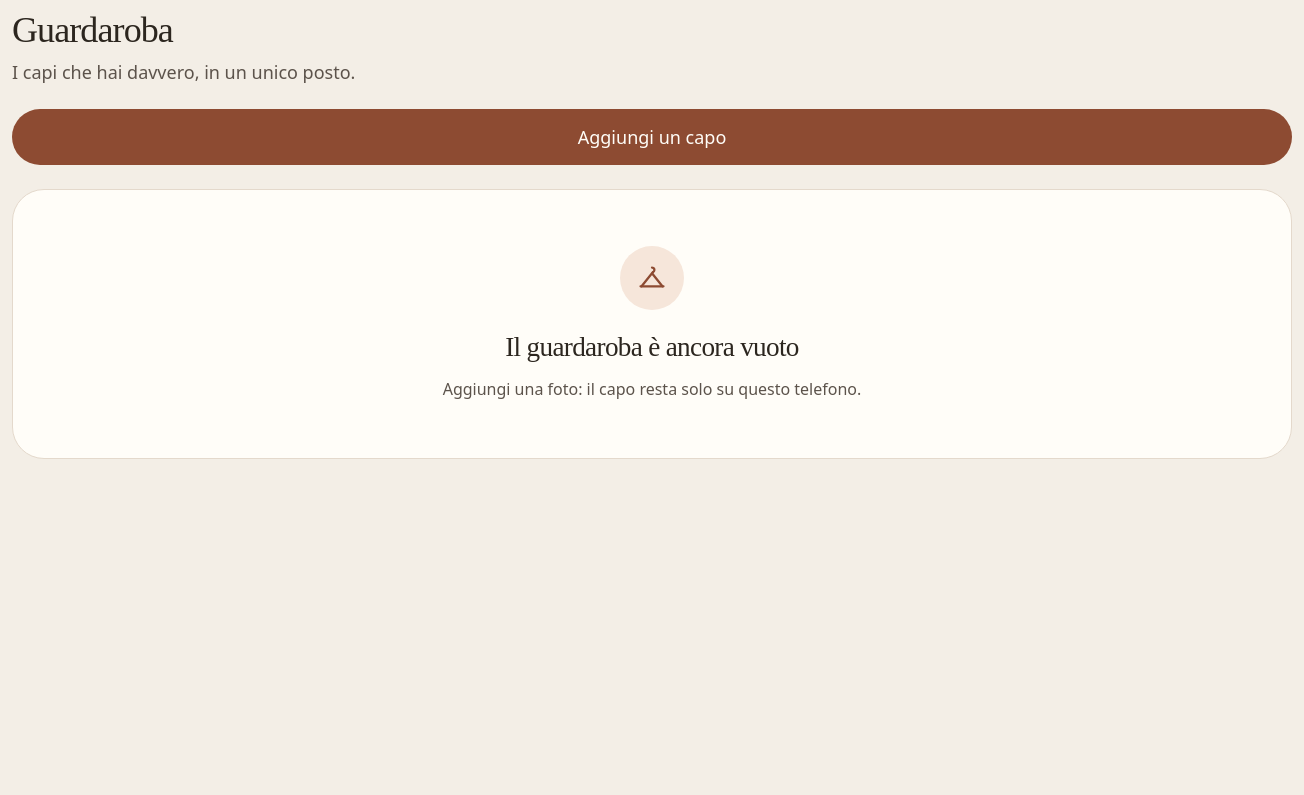
Scenario: guardaroba › salva un capo con la foto e lo mostra nella griglia
The width and height of the screenshot is (1304, 795).
Later steps or results of the test are not shown.
Click the button "Aggiungi un capo".
click(652, 137)  # box [12,109,1292,165]
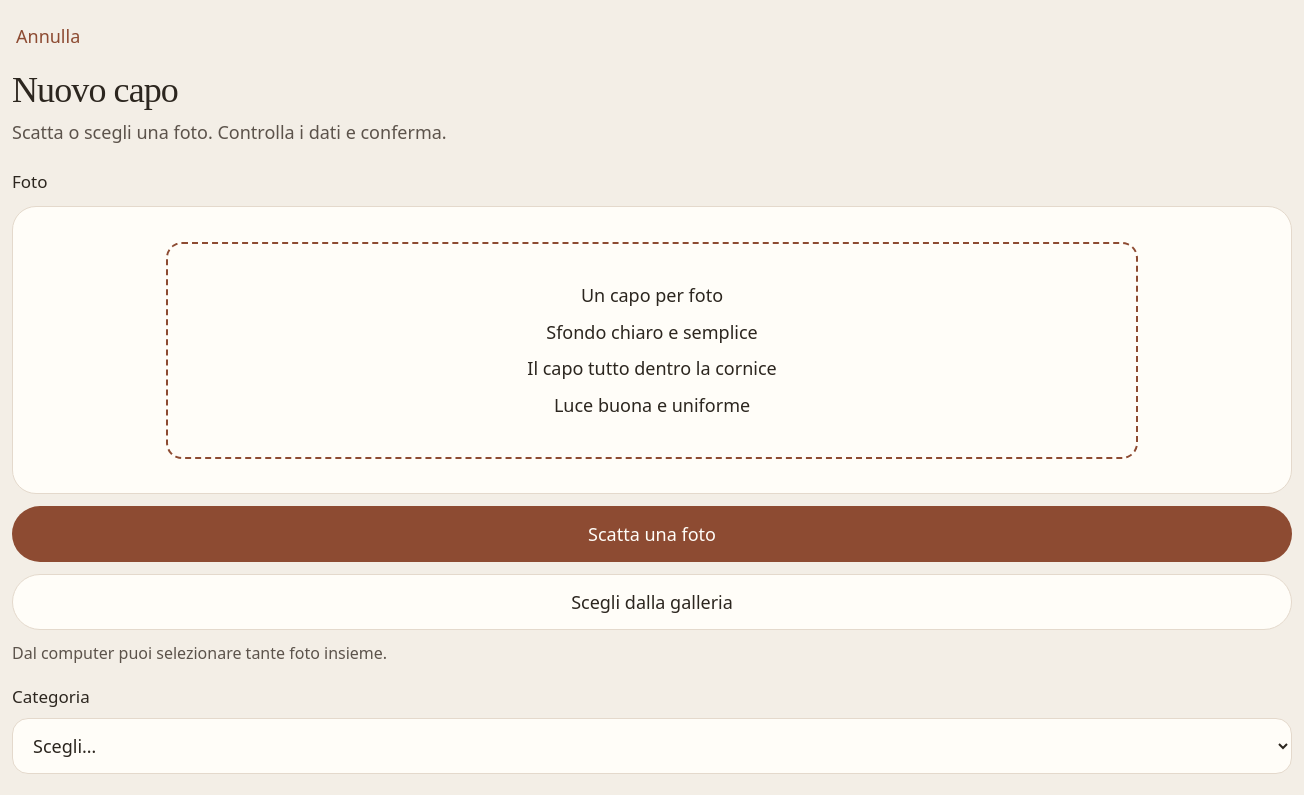
Expected: the list item "Un capo per foto" is shown, [581,283,723,307]
Expected: the list item "Sfondo chiaro e semplice" is shown, [546,320,758,344]
Expected: the list item "Il capo tutto dentro la cornice" is shown, [527,356,777,380]
